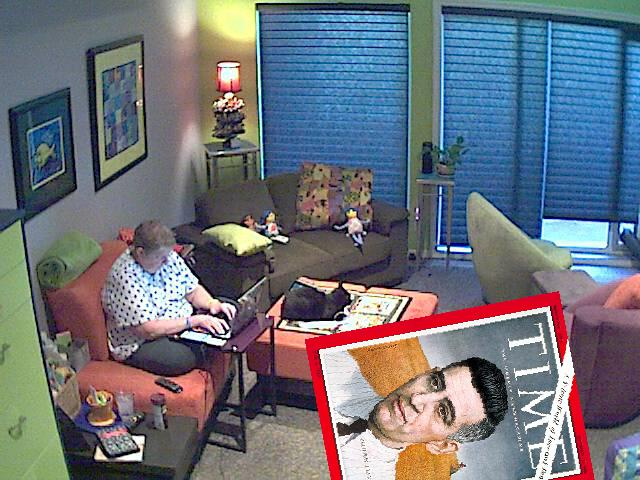times: (300, 287, 593, 480)
